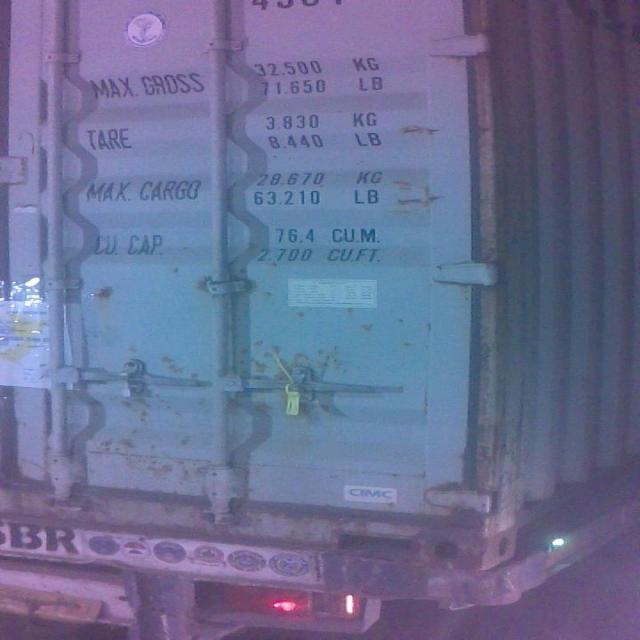seal: (272, 349, 306, 418), (114, 372, 145, 402)
